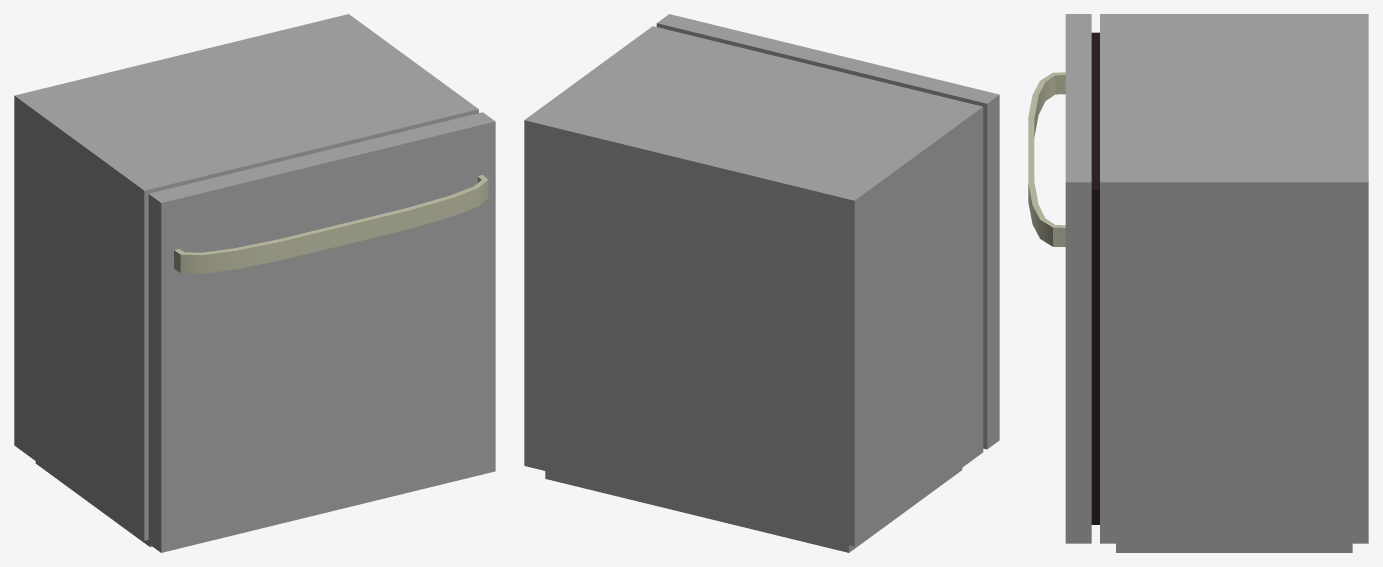
Rendered from BaseCabinet-SingleHandle.fbx.
3 renders of one model, left to right at view 1: azimuth 30°, elevation 25°; view 2: azimuth 150°, elevation 25°; view 3: azimuth 270°, elevation 25°, orthographic. The views are drawn at different scales.
Parts seen in each view (by area): view 1: StorageCabinet1; view 2: StorageCabinet1; view 3: StorageCabinet1.
Part boxes in pixels (x1,y1,x2,y2): StorageCabinet1: [14, 14, 495, 552]; StorageCabinet1: [524, 14, 999, 552]; StorageCabinet1: [1028, 14, 1368, 552].
Size of the model in its own units: 83.88 by 87.59 by 71.65.
